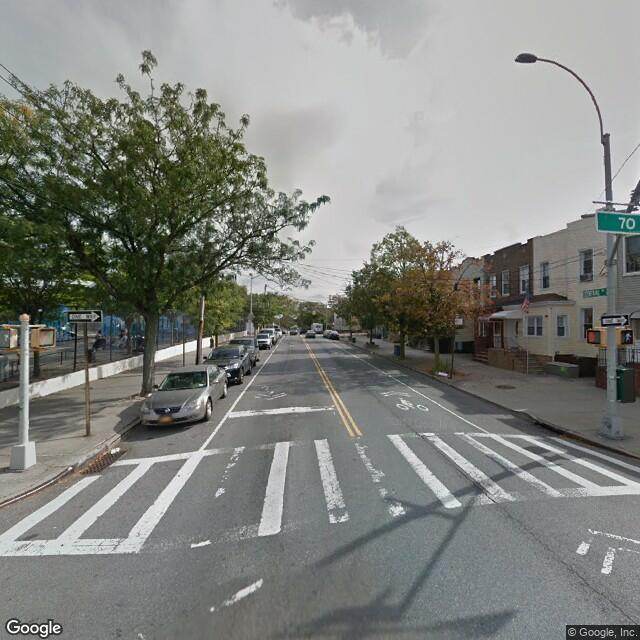litter: (103, 444, 127, 462), (63, 462, 75, 475)
